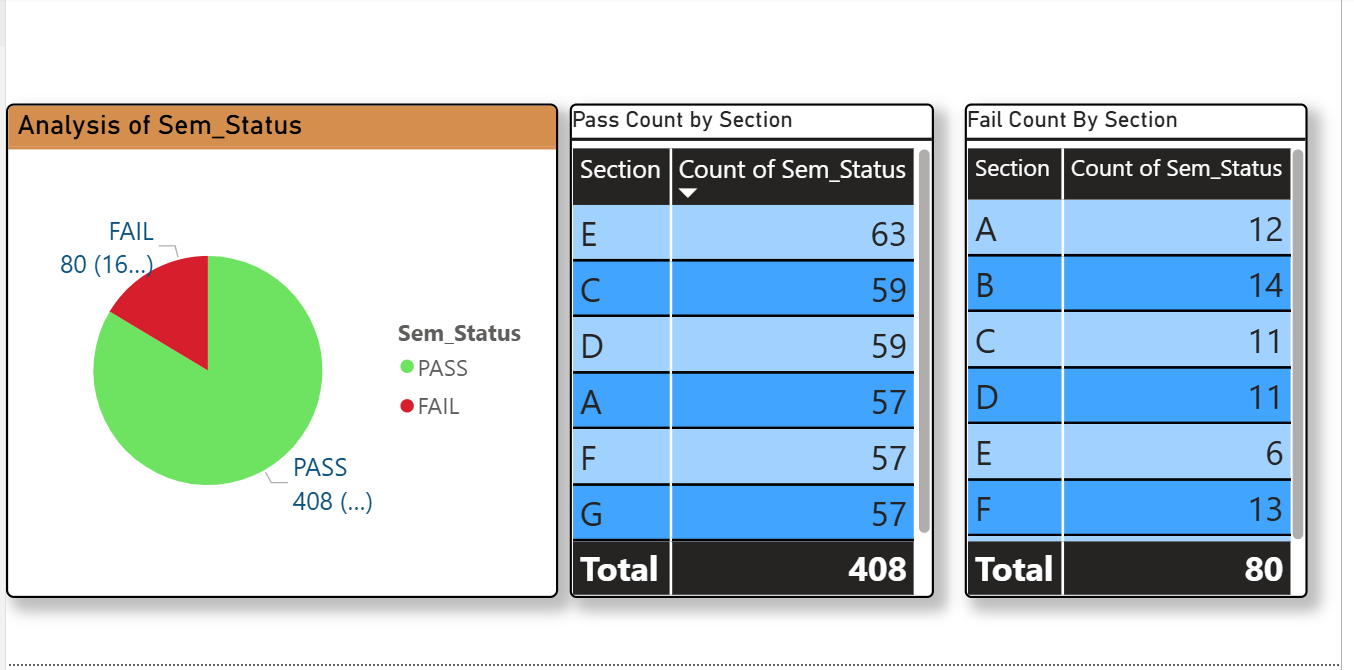

What the dashboard file says about the page in this screenshot:
{"tool":"powerbi","page":{"name":"Page 3","canvas":[1000,500],"ordinal":2},"visuals":[{"type":"pieChart","title":" Analysis of Sem_Status","fields":{"Category":["snist ece.Sem_Status"],"Y":["CountNonNull(snist ece.Sem_Status)"]},"box":[0,80.5,413.9,370.8],"z":0},{"type":"tableEx","title":"Pass Count by Section","fields":{"Values":["snist ece.Section","snist ece.Sem_Status"]},"box":[422.3,80.5,272.5,370.8],"z":1000},{"type":"tableEx","title":"Fail Count By Section","fields":{"Values":["snist ece.Section","snist ece.Sem_Status"]},"box":[718.2,80.5,256.6,370.8],"z":2000}]}

Visuals, with their boxes in screenshot pixels (x1, y1, x2, y2), scaled from the page's 1000x500 canvas onto the 1354x670 screenshot:
" Analysis of Sem_Status" pieChart: [0, 108, 560, 605]
"Pass Count by Section" tableEx: [572, 108, 941, 605]
"Fail Count By Section" tableEx: [972, 108, 1320, 605]
